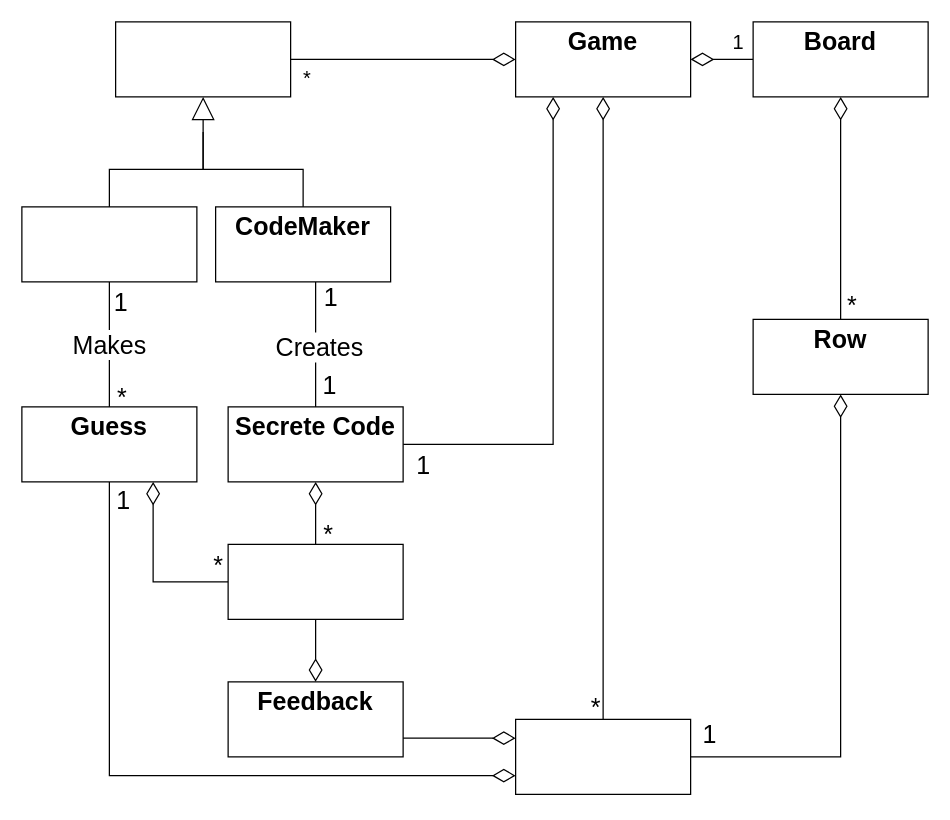
This 950x820 diagram has some shape labels left out. The shapes that lost their labels are listed below. From the top down, each one's box as (x1, y1, x2, y2) in pixels, then its label:
(114, 21, 291, 97): Player
(21, 206, 197, 282): CodeBreaker
(227, 543, 403, 619): Peg
(514, 718, 691, 794): Round
